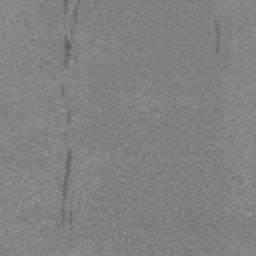Red iron sheet: (60, 154, 73, 227), (61, 33, 73, 69), (212, 19, 220, 55), (73, 0, 81, 20), (64, 0, 68, 14), (68, 110, 72, 123)
